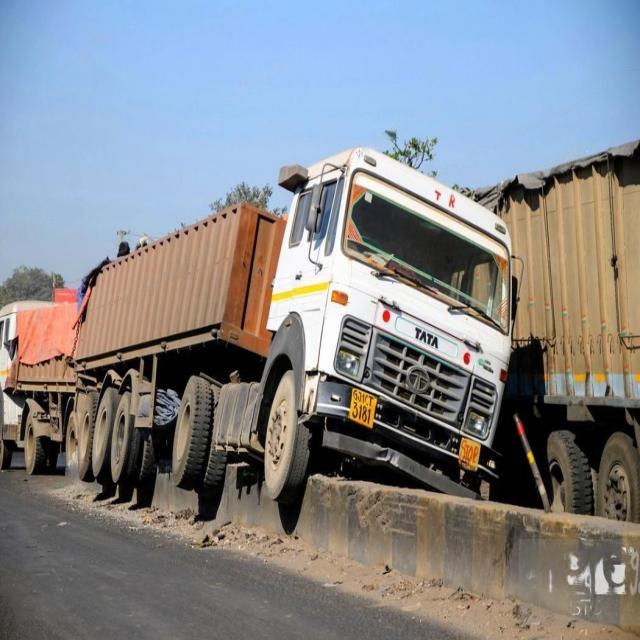accident: (68, 144, 530, 545)
